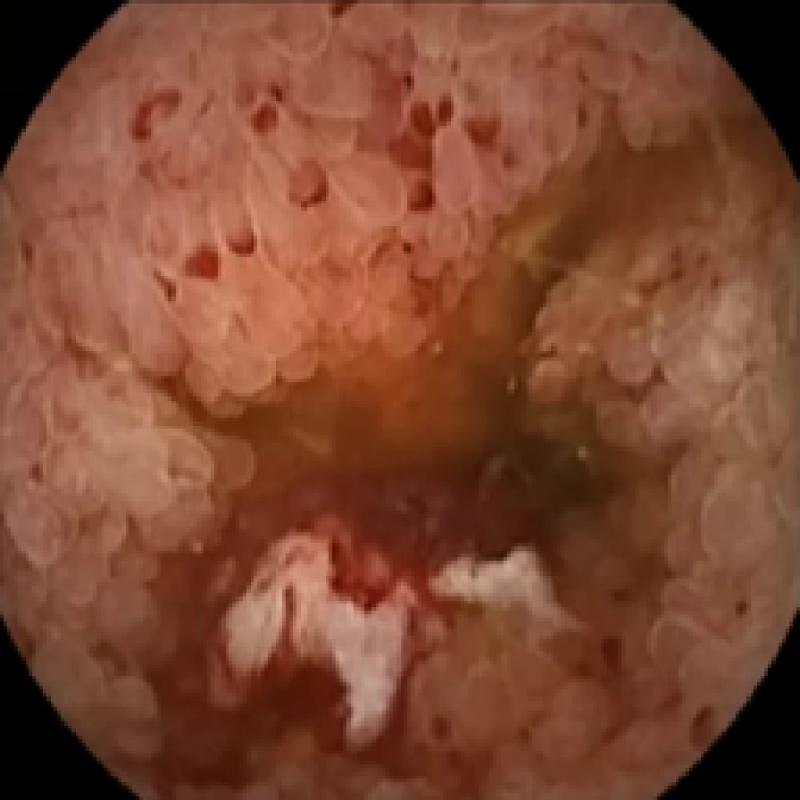bleeding: (150, 476, 492, 794), (386, 86, 457, 214), (182, 216, 258, 282), (123, 86, 182, 139), (290, 157, 329, 207), (689, 681, 717, 746), (596, 627, 628, 675)
